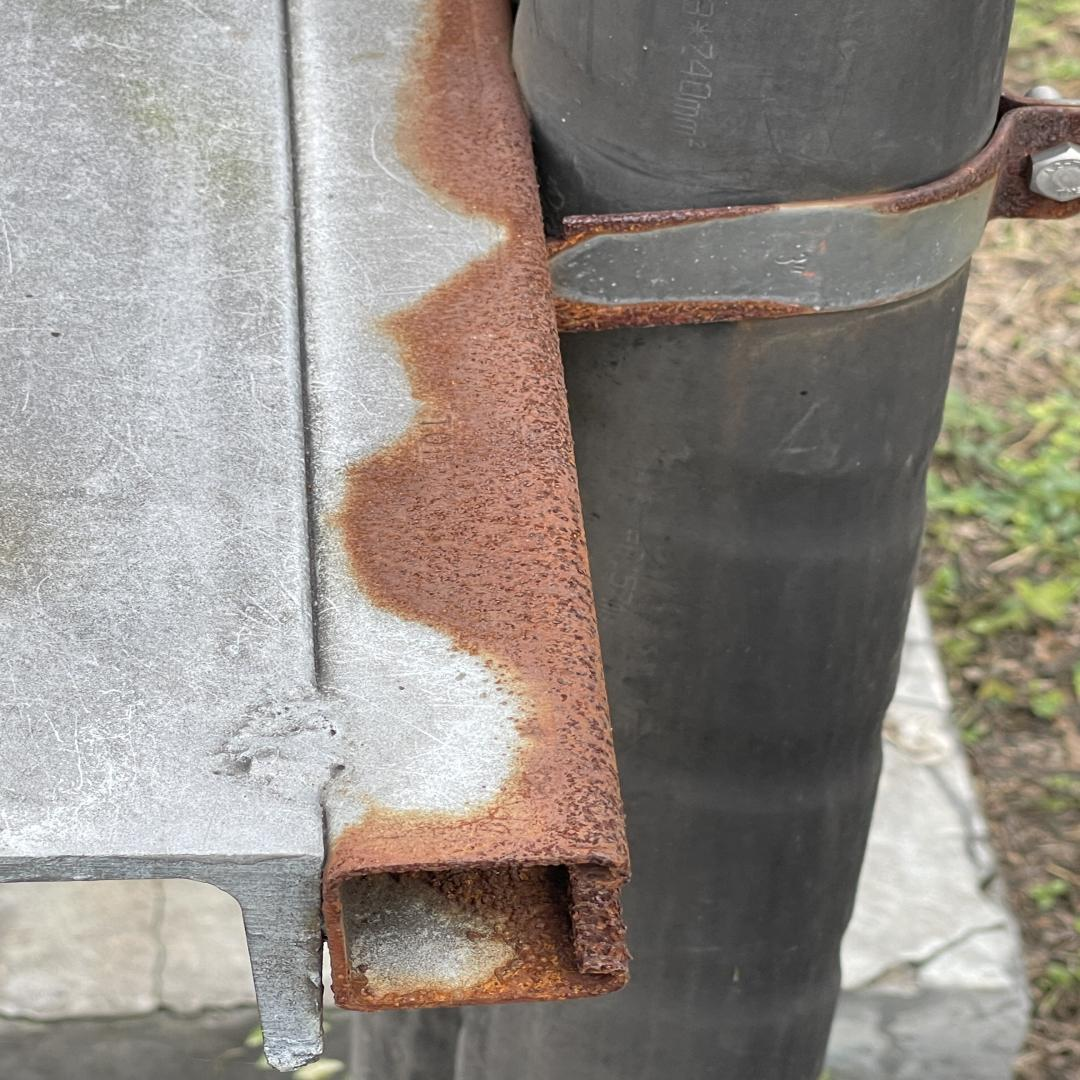Metal corroido: (322, 0, 631, 1014), (864, 102, 1080, 221), (545, 202, 780, 260), (559, 292, 820, 333)
Tornillo sin corrosion: (1033, 143, 1080, 202)
